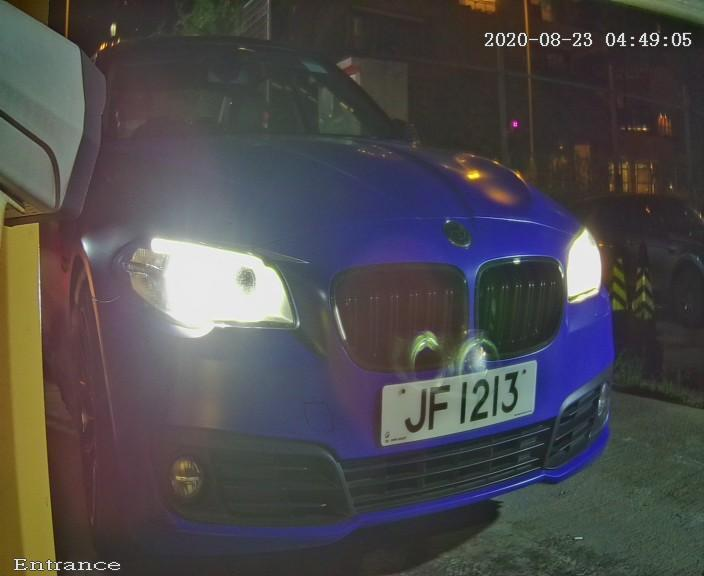Car: (23, 1, 657, 571)
License Plate: (354, 325, 568, 485)
